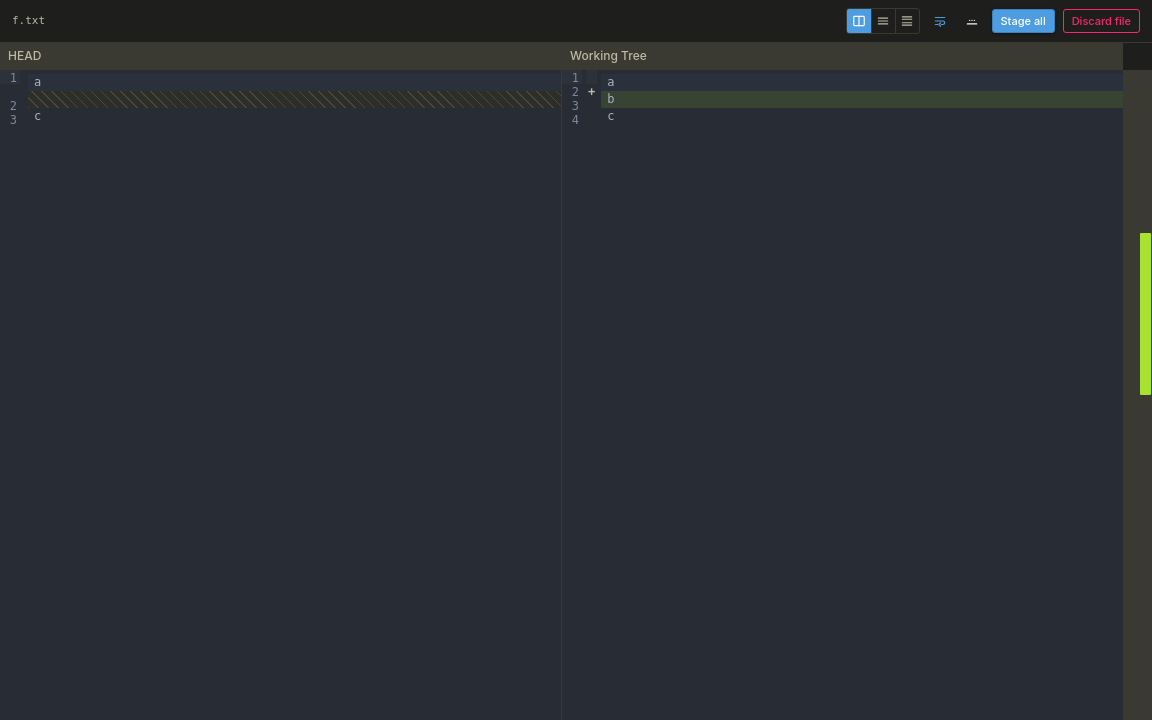
Test: StageFileEditor › discard confirmation › does not discard when the confirmation is cancelled
Click the button "Discard file": (1101, 21) [1063,9,1140,33]
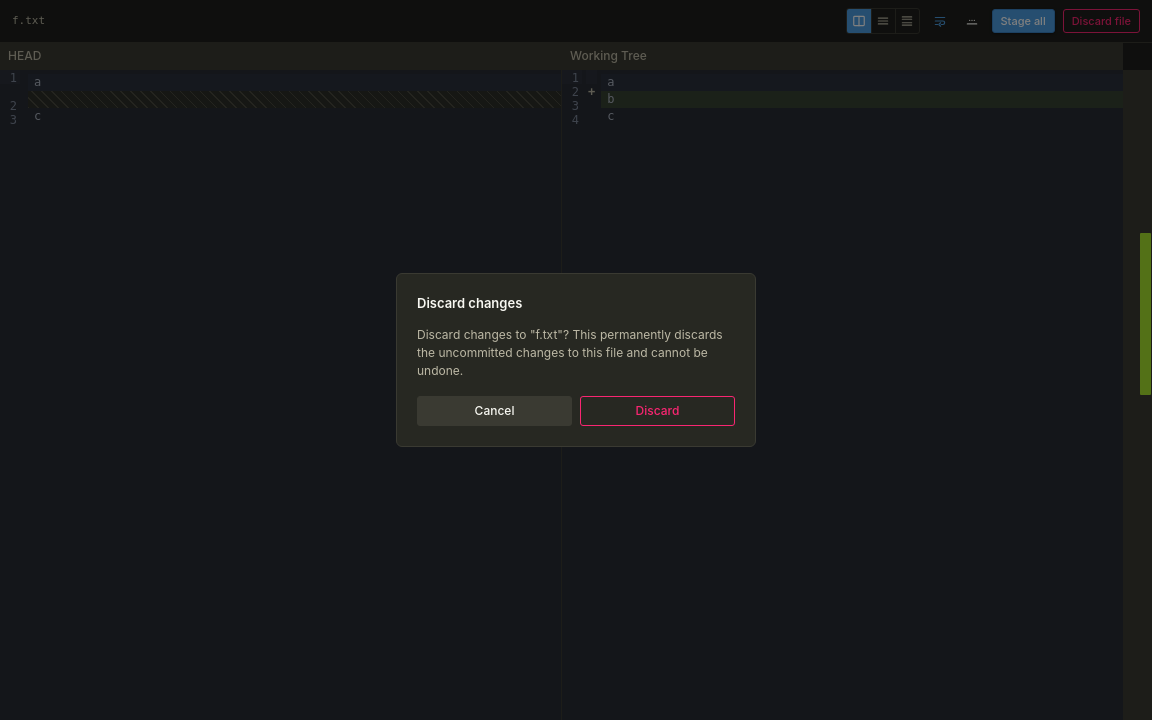
Click the button "Cancel": (494, 411) [417,396,572,426]
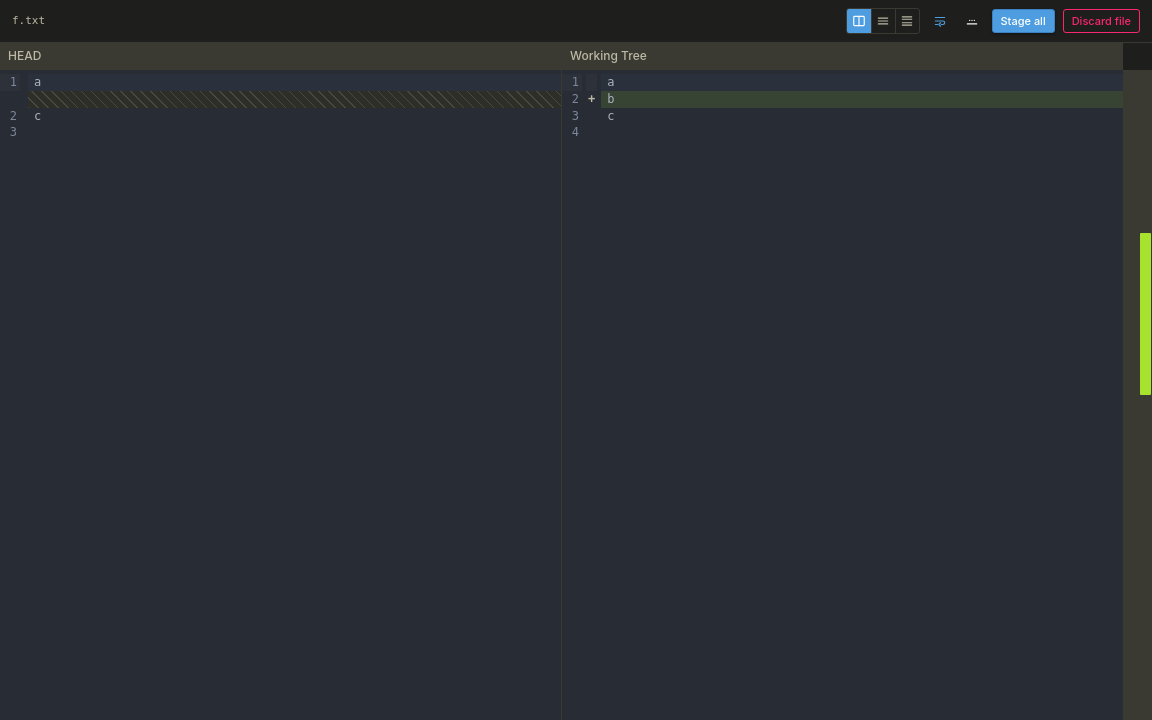
Check: the dialog is gone
